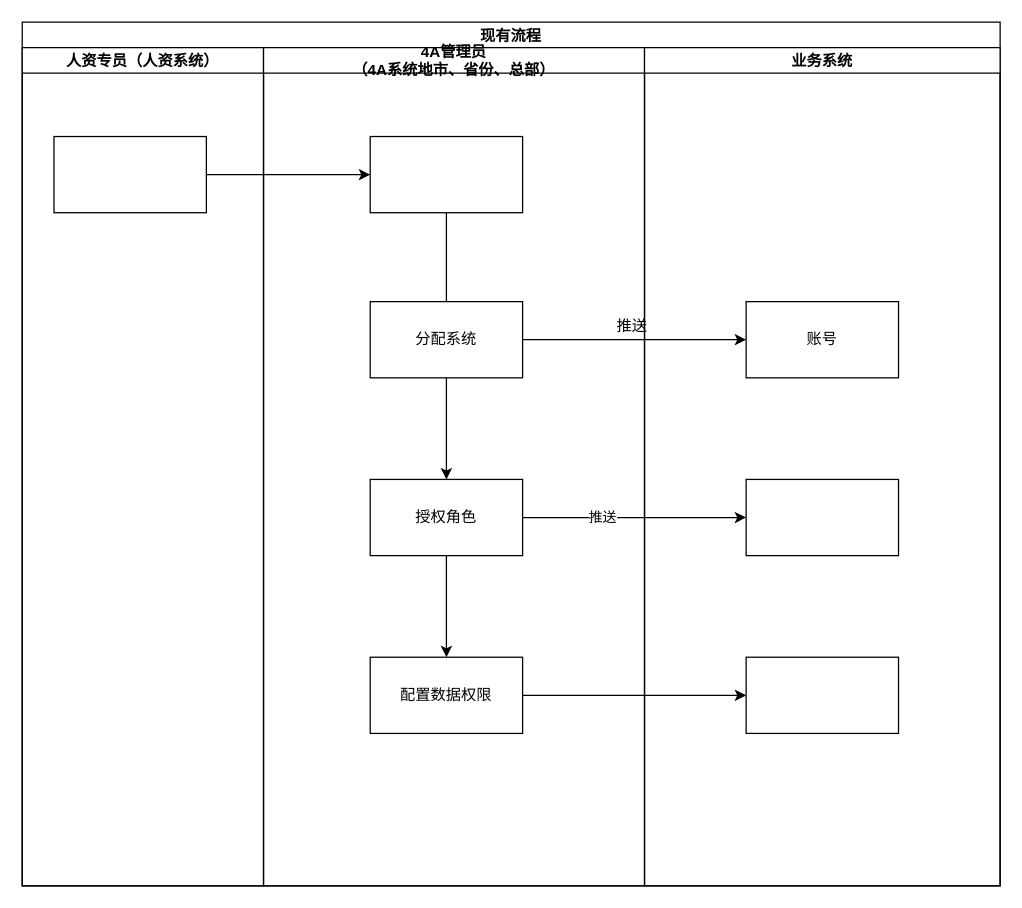
Image size: 1022x908. Some labels were removed from this diagram. The shapes that lost their labels are listed below. From the top down, each one's centre as x and y in pixels, then its label:
At point 129,174: "人员入职/调岗".
At point 446,174: "建立/迁移账号".
At point 822,517: "授权".
At point 822,694: "数据权限".
